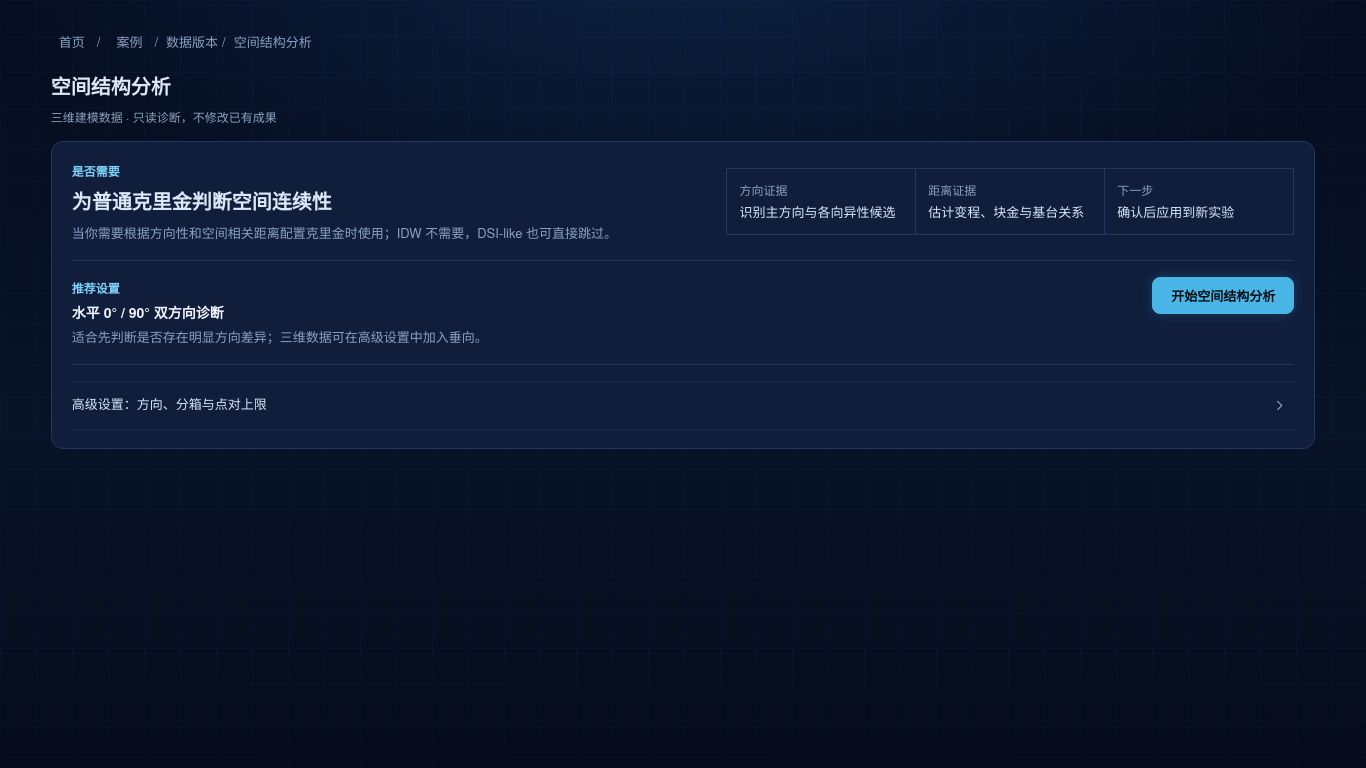
诊断运行与证据展示 › 成功态先展示可执行结论，诊断身份收进技术详情
Click the button with test id "start-diagnosis" at (1223, 295), box [1152,277,1294,314]
Wait 2000 ms
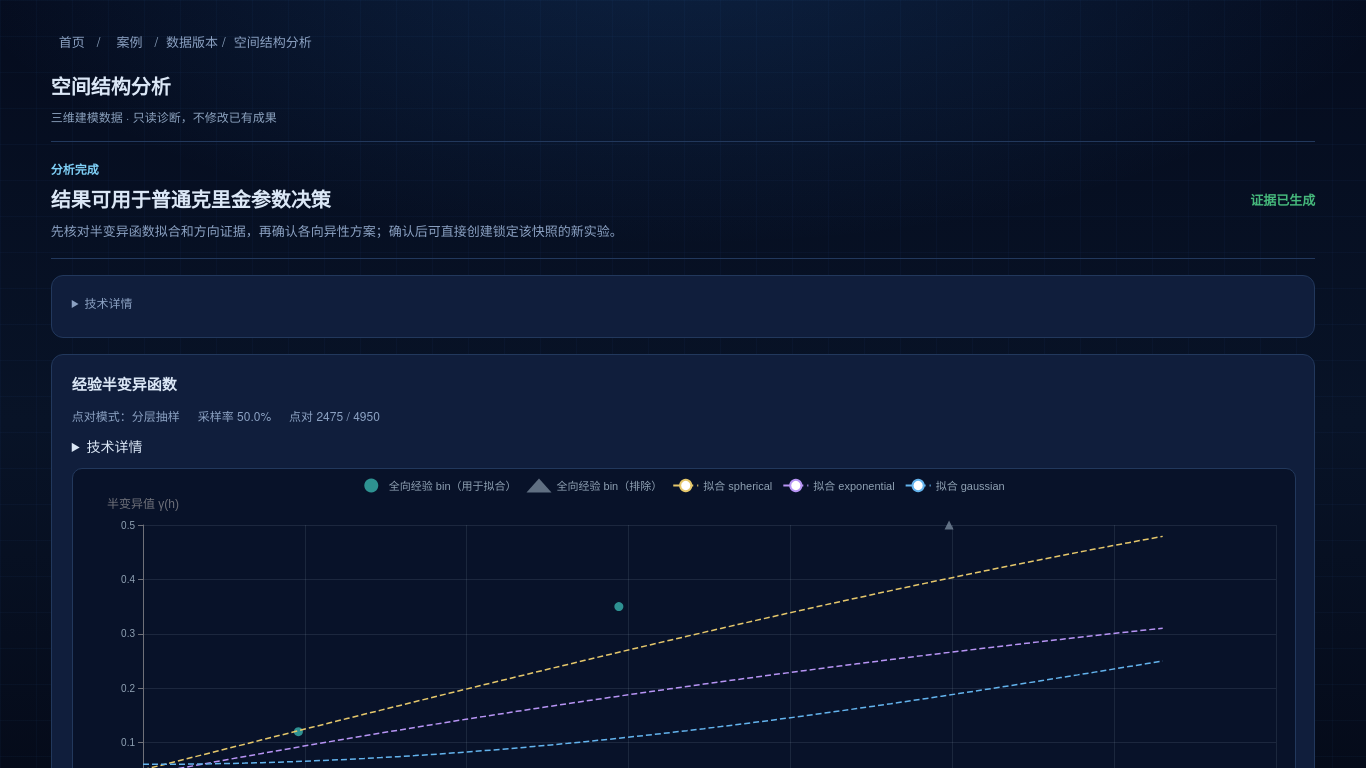
Check: the element with test id "diagnosis-conclusion" shows "用于普通克里金", box [51,184,331,213]
